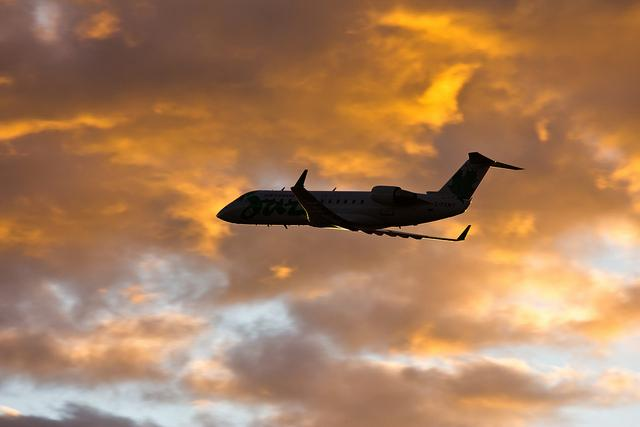airplane: (215, 150, 527, 243)
